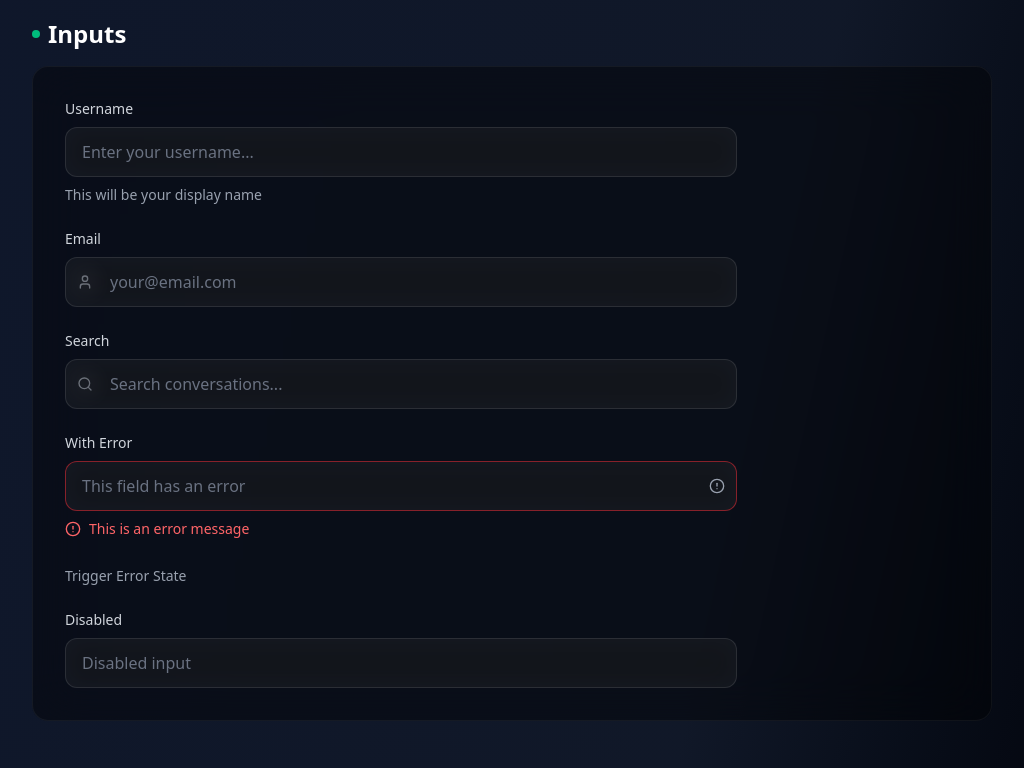
Test: UILab › renders and supports input + error interactions
The image size is (1024, 768).
(page scrolled)
expect the text "This is an error message" is shown: met, box [65,519,249,538]
Note: Change the Search input.
Type "hello" into the field labelled "Search".
click(401, 384); type("hello")  # box [65,359,737,409]
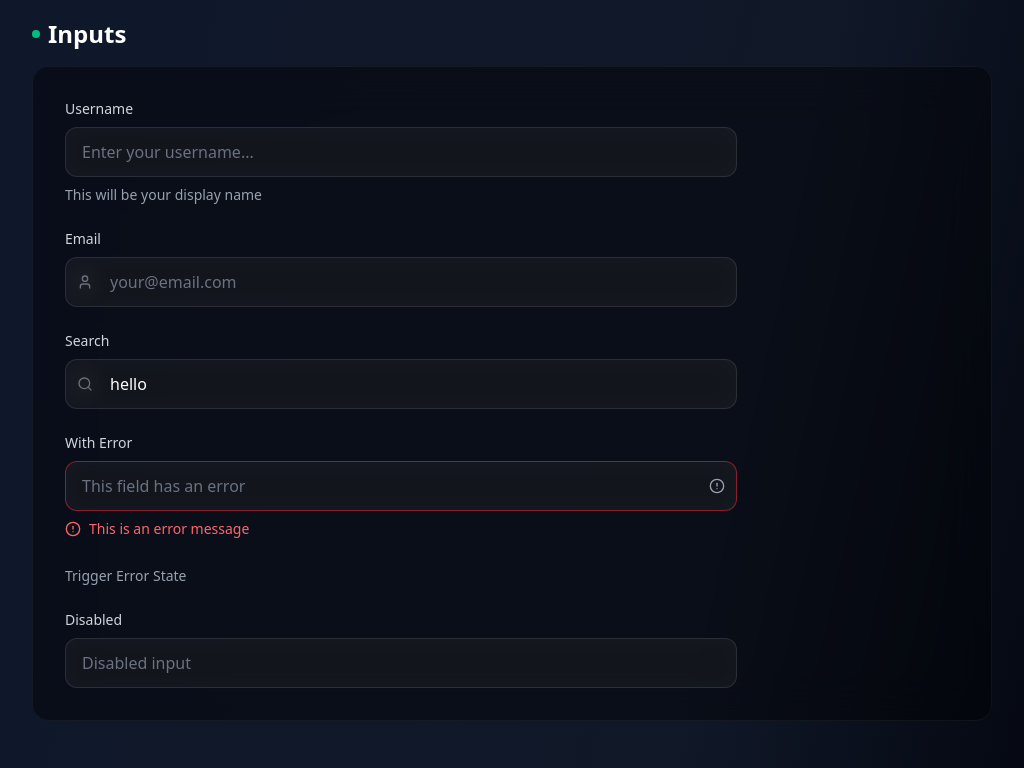
Note: Click the button to change the error state.
Click the button "Trigger Error State".
click(126, 576)  # box [65,566,186,586]
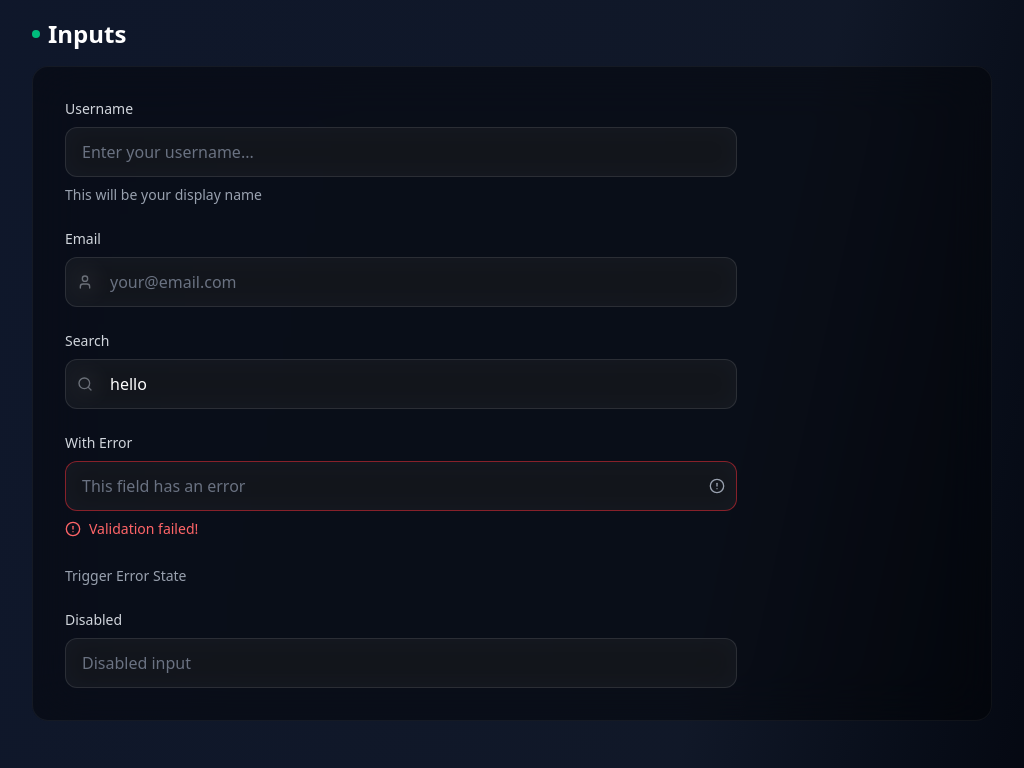
expect the text "Validation failed!" is shown: met, box [65,519,198,538]
